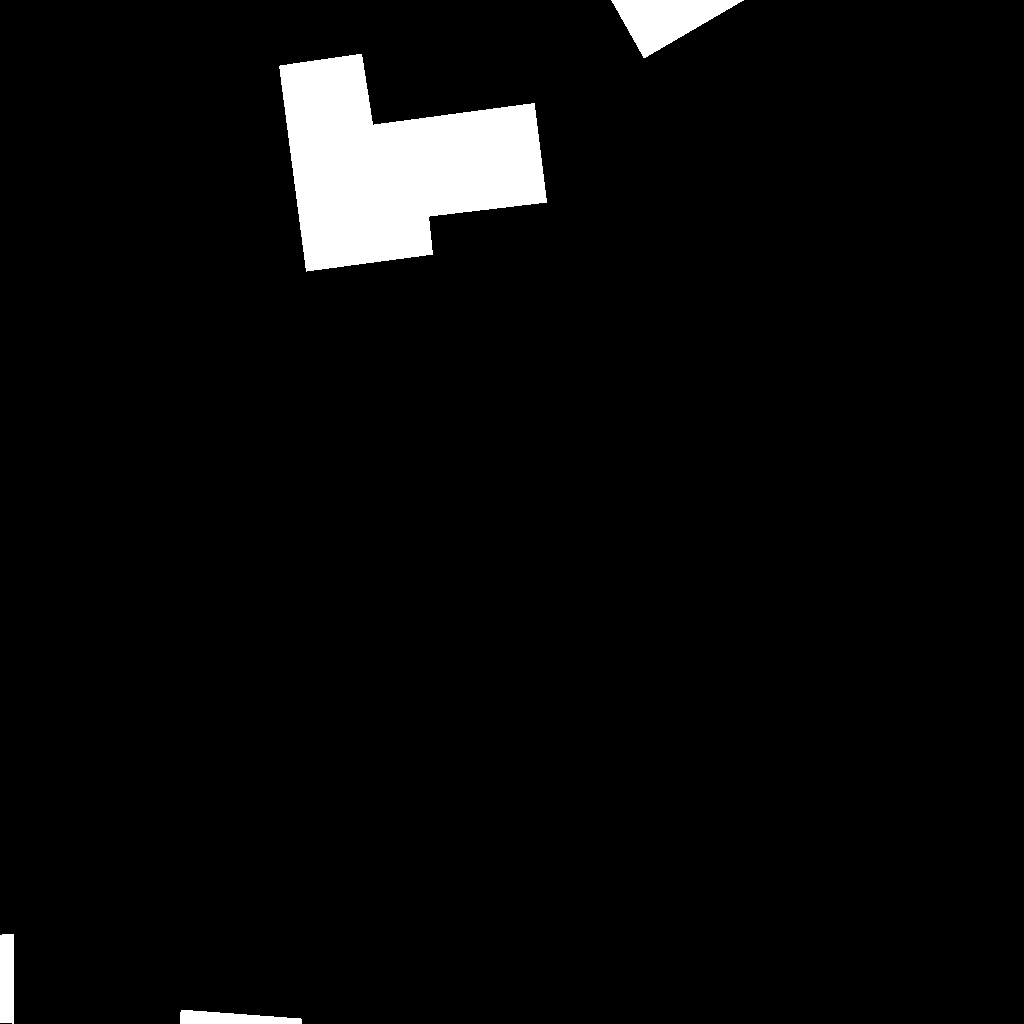building: (279, 54, 548, 272), (611, 0, 745, 59), (180, 1010, 303, 1024), (0, 934, 15, 1024)
